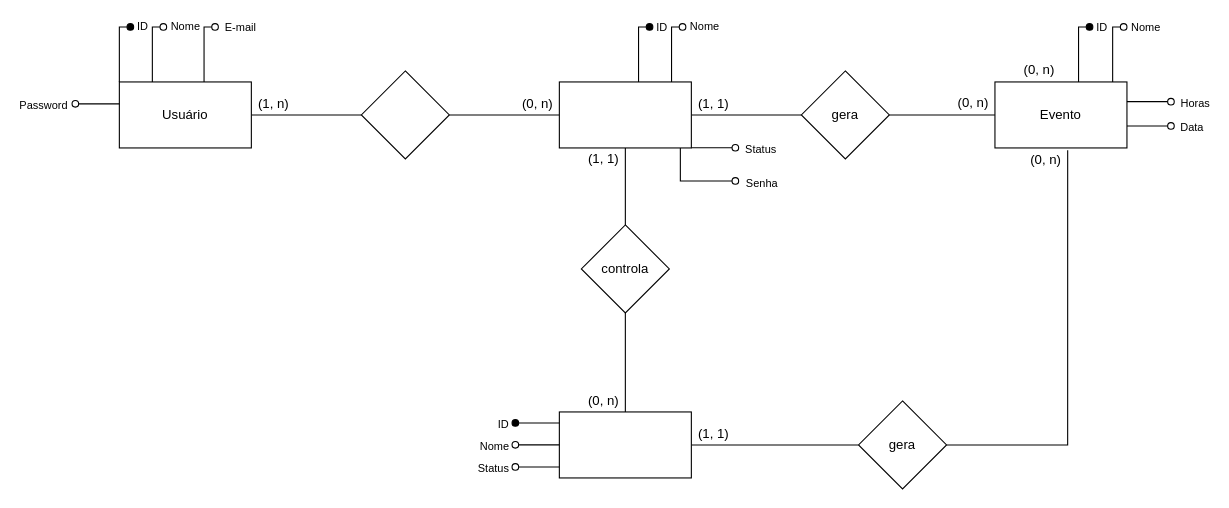
This 1229x508 diagram has some shape labels left out. The box of each missing label's shape, as (x1, y1, x2, y2) in pixels:
Central: (558, 81, 691, 148)
gerencia: (360, 70, 449, 159)
Sensor: (558, 411, 691, 478)
